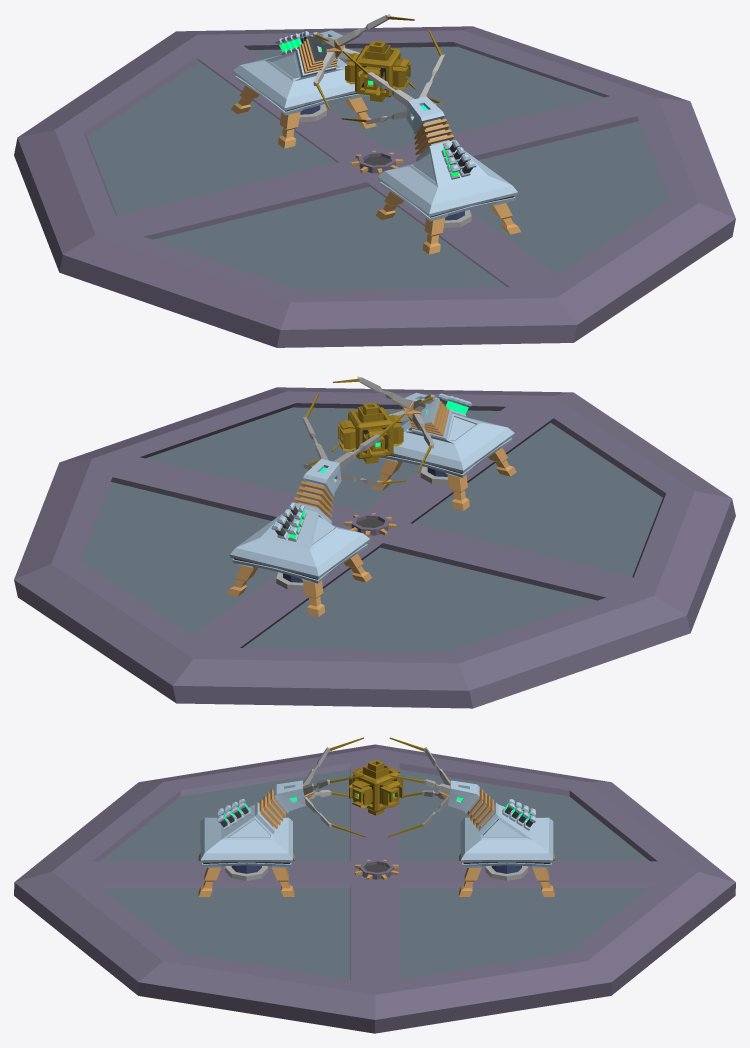
Rendered from baseitens_item02.fbx.
3 renders of one model, top to bottom at view 1: azimuth 30°, elevation 25°; view 2: azimuth 150°, elevation 25°; view 3: azimuth 270°, elevation 25°, orthographic. The views are drawn at different scales.
Visible parts, largest first — view 1: Plane.003; view 2: Plane.003; view 3: Plane.003.
Boxes of the visible parts, bbox=[...] form: Plane.003: bbox=[14, 14, 735, 347]; Plane.003: bbox=[14, 376, 735, 708]; Plane.003: bbox=[14, 737, 735, 1033].
Size of the model in its own units: 1953 by 468 by 2150.
